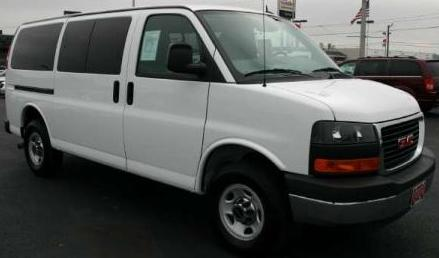front_view: (294, 105, 431, 224)
headlight: (302, 107, 388, 176)
side_glass: (51, 14, 238, 91)
